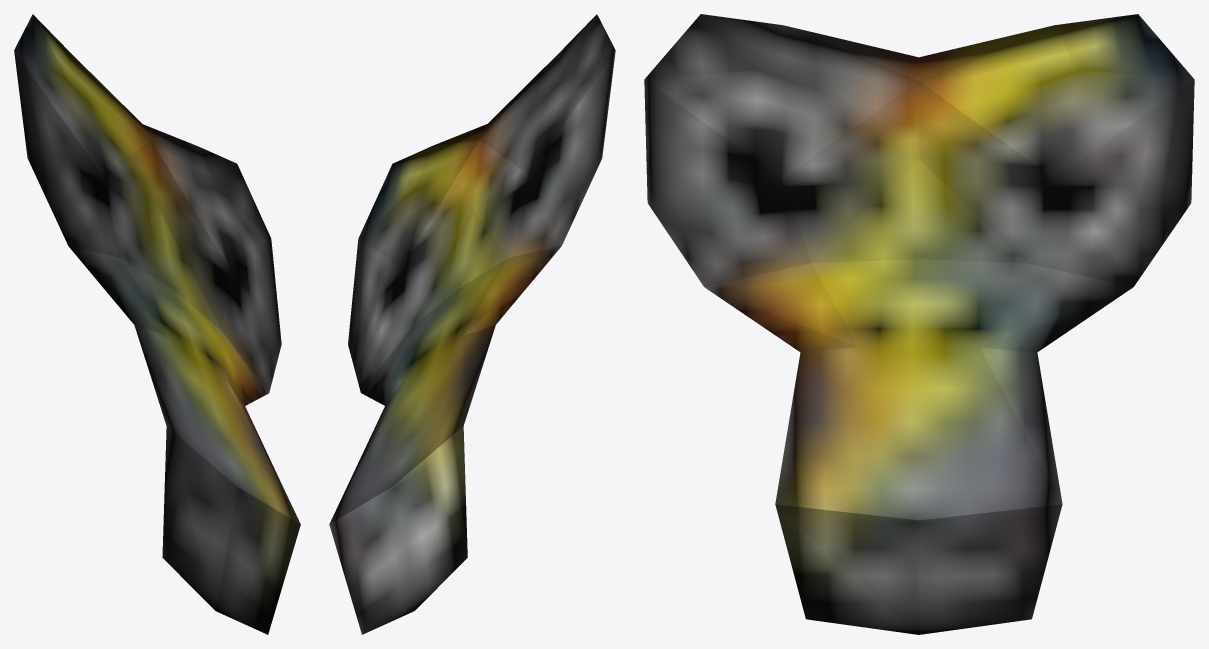
File: LIGHTNING MAKEUP.fbx
The picture shows the model from 3 angles, left to right: view 1: azimuth 30°, elevation 25°; view 2: azimuth 150°, elevation 25°; view 3: azimuth 270°, elevation 25°; orthographic projection. The views are drawn at different scales.
Visible parts, largest first — view 1: LIGHTNING_MAKEUP; view 2: LIGHTNING_MAKEUP; view 3: LIGHTNING_MAKEUP.
Boxes of the visible parts, bbox=[...] form: LIGHTNING_MAKEUP: bbox=[14, 14, 300, 634]; LIGHTNING_MAKEUP: bbox=[329, 14, 615, 634]; LIGHTNING_MAKEUP: bbox=[644, 14, 1194, 634].
Size of the model in its own units: 4.02 by 20.13 by 17.33.
